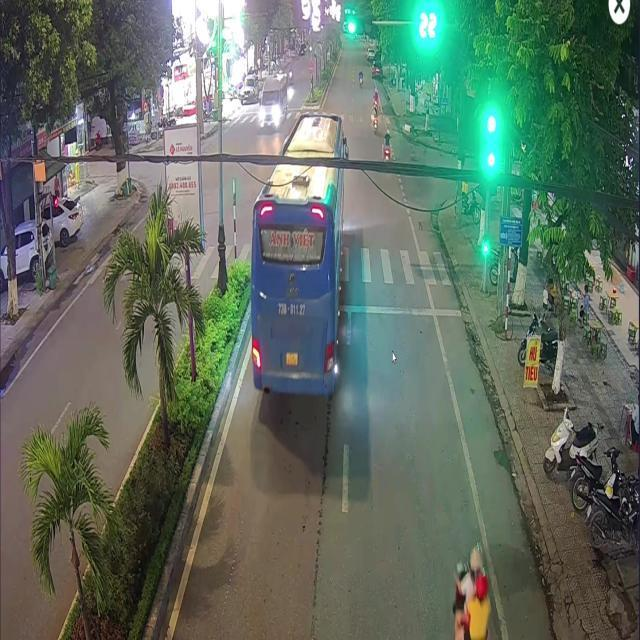car: (250, 112, 347, 395)
green_light: (345, 17, 372, 35), (486, 133, 495, 167), (483, 232, 487, 251)
motobike: (452, 542, 490, 638)
stop_line: (263, 299, 463, 316)
